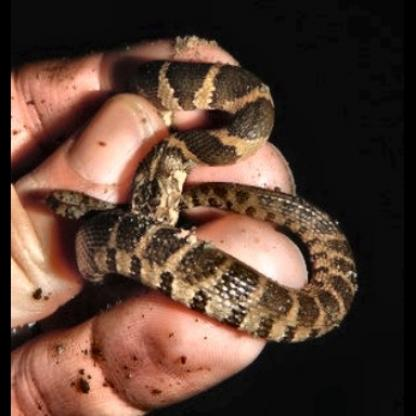Snake: (44, 55, 364, 344)
